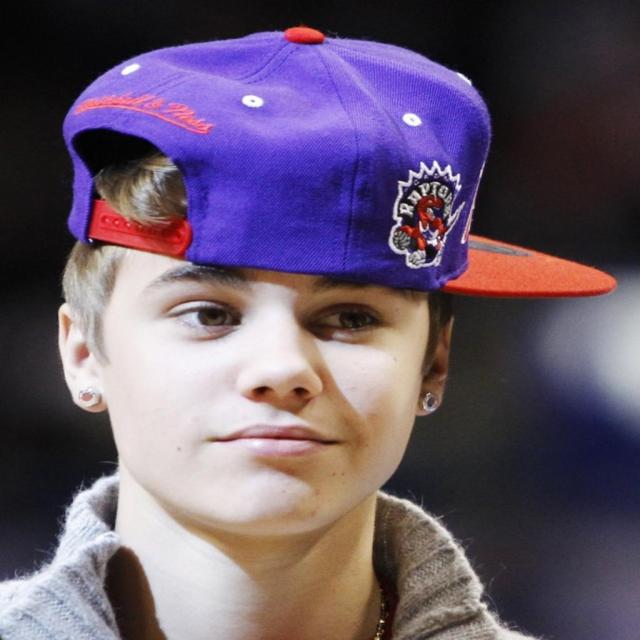Face: (102, 215, 441, 538)
